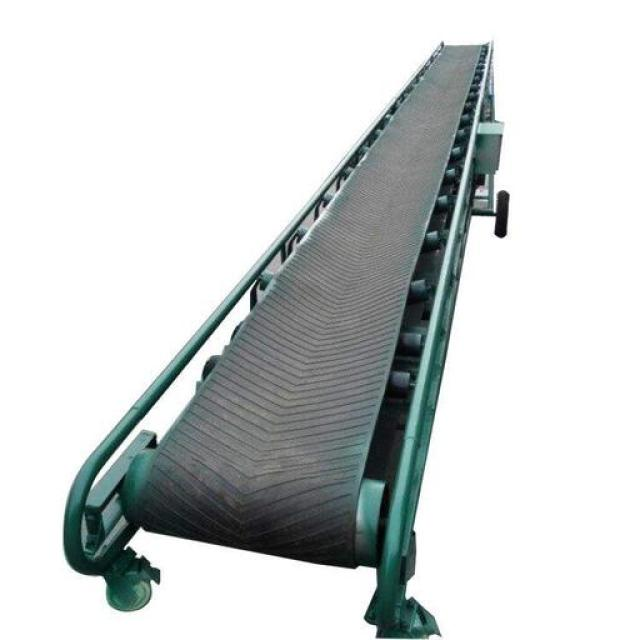conveyor: (137, 44, 487, 565)
